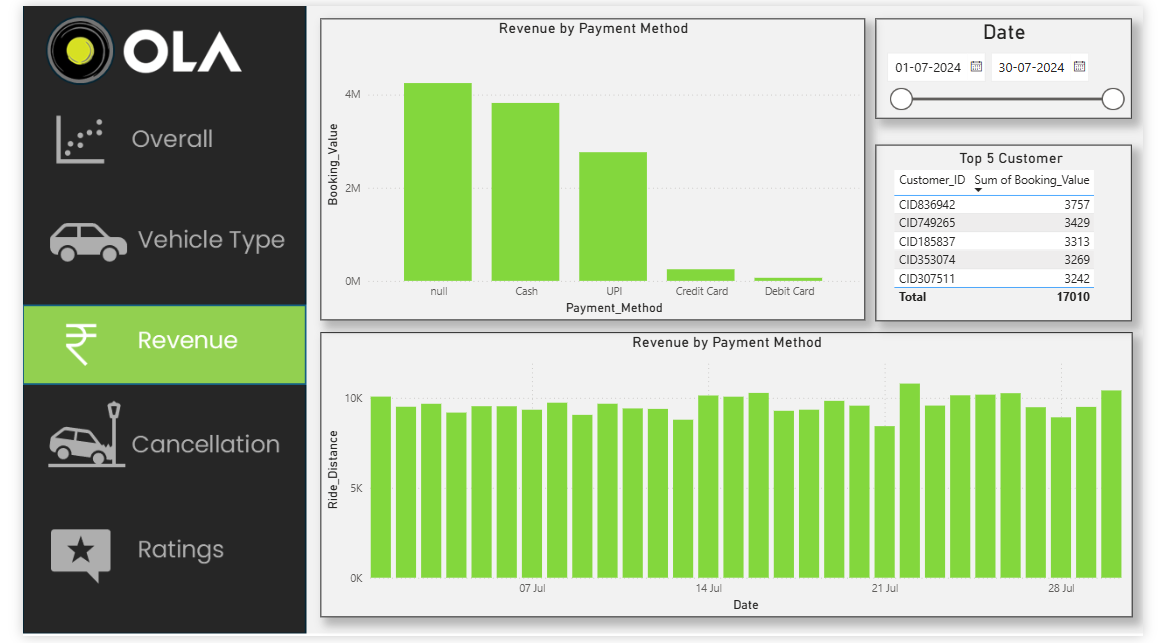

This screenshot's page, from the dashboard's own definition file:
{"tool":"powerbi","page":{"name":"Revenue","canvas":[1280,720],"ordinal":2},"visuals":[{"type":"actionButton","box":[0,449.9,326.7,88.4],"z":0},{"type":"actionButton","box":[0,224.9,326.7,88.4],"z":1000},{"type":"actionButton","box":[0,99.1,326.7,99.1],"z":2000},{"type":"actionButton","box":[0,570.4,326.7,88.4],"z":3000},{"type":"clusteredColumnChart","title":"Revenue by Payment Method","fields":{"Category":["July.Payment_Method"],"Y":["Sum(July.Booking_Value)"]},"box":[340.2,14.5,622.5,345],"z":4000},{"type":"tableEx","title":"Top 5 Customer ","fields":{"Values":["July.Customer_ID","Sum(July.Booking_Value)"]},"box":[974.8,158,293.2,201.5],"z":5000},{"type":"slicer","title":"Date","fields":{"Values":["July.Date"]},"box":[974.8,14.5,293.2,114.6],"z":6000},{"type":"clusteredColumnChart","title":"Revenue by Payment Method","fields":{"Category":["July.Date"],"Y":["Sum(July.Ride_Distance)"]},"box":[340.2,372.8,927.8,325.7],"z":7000}]}

Visuals, with their boxes in screenshot pixels (x1, y1, x2, y2), scaled from the page's 1280x720 canvas onto the 1161x643 screenshot:
actionButton: [0, 402, 296, 481]
actionButton: [0, 201, 296, 280]
actionButton: [0, 89, 296, 177]
actionButton: [0, 509, 296, 588]
"Revenue by Payment Method" clusteredColumnChart: [309, 13, 873, 321]
"Top 5 Customer " tableEx: [884, 141, 1150, 321]
"Date" slicer: [884, 13, 1150, 115]
"Revenue by Payment Method" clusteredColumnChart: [309, 333, 1150, 624]
